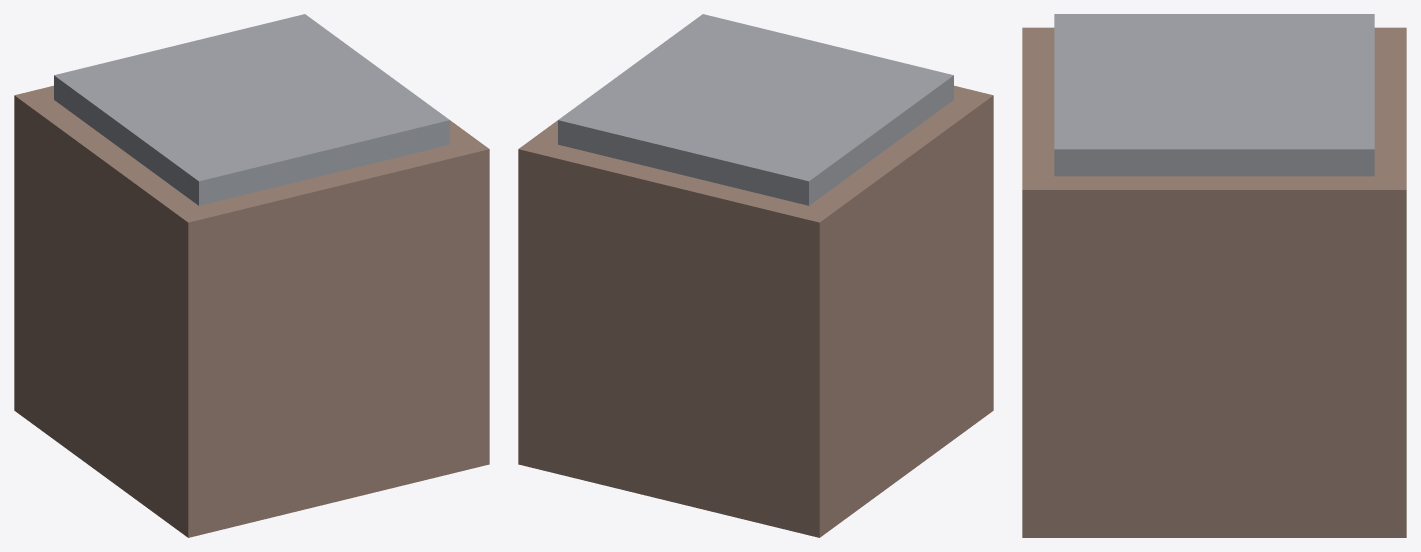
The model's file is furn_crate.glb.
3 renders of one model, left to right at view 1: azimuth 30°, elevation 25°; view 2: azimuth 150°, elevation 25°; view 3: azimuth 270°, elevation 25°, orthographic. The views are drawn at different scales.
Parts seen in each view (by area): view 1: furn_crate; view 2: furn_crate; view 3: furn_crate.
Boxes of the visible parts, x1,y1,x2,y2 form: furn_crate: (14, 14, 489, 537); furn_crate: (518, 14, 993, 537); furn_crate: (1022, 14, 1406, 537).
Size of the model in its own units: 0.9 by 0.97 by 0.9.
